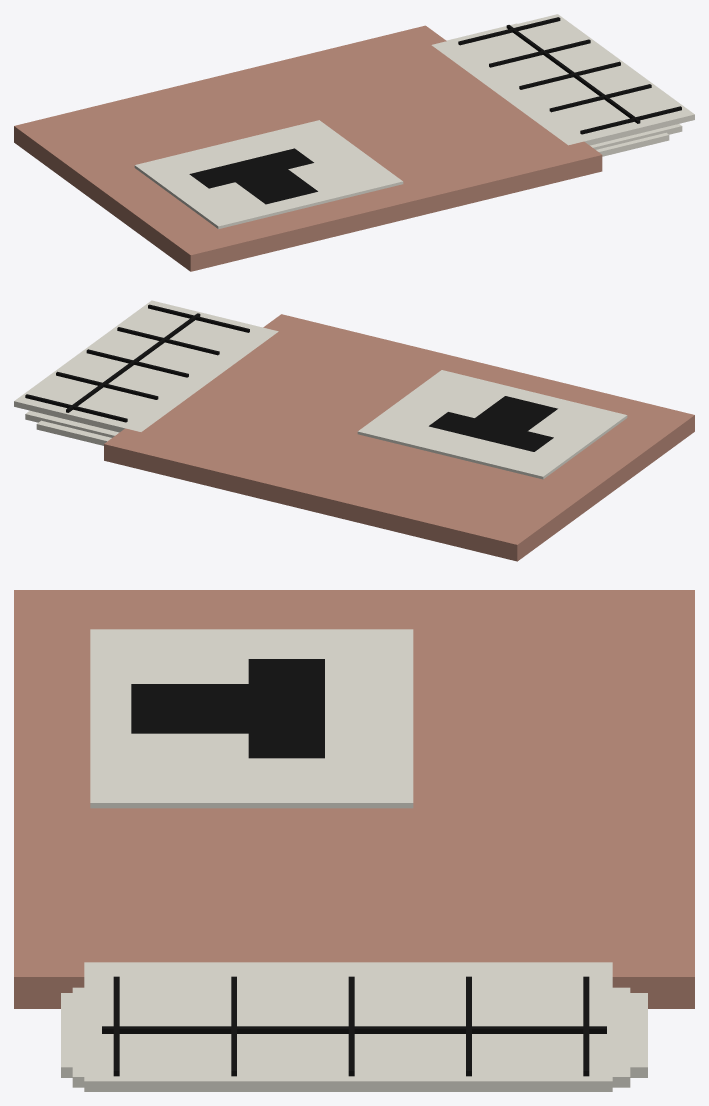
File: tailoring_pattern_set.glb
3 renders of one model, top to bottom at view 1: azimuth 30°, elevation 25°; view 2: azimuth 150°, elevation 25°; view 3: azimuth 270°, elevation 25°, orthographic. The views are drawn at different scales.
Parts seen in each view (by area): view 1: tailoring_pattern_set:compound; view 2: tailoring_pattern_set:compound; view 3: tailoring_pattern_set:compound.
Boxes of the visible parts, left/top/right/bottom form: tailoring_pattern_set:compound: left=14, top=14, right=694, bottom=271; tailoring_pattern_set:compound: left=14, top=300, right=694, bottom=561; tailoring_pattern_set:compound: left=14, top=590, right=694, bottom=1091.
Bounding box in the file's own units: 0.396 × 0.014 × 0.232.
